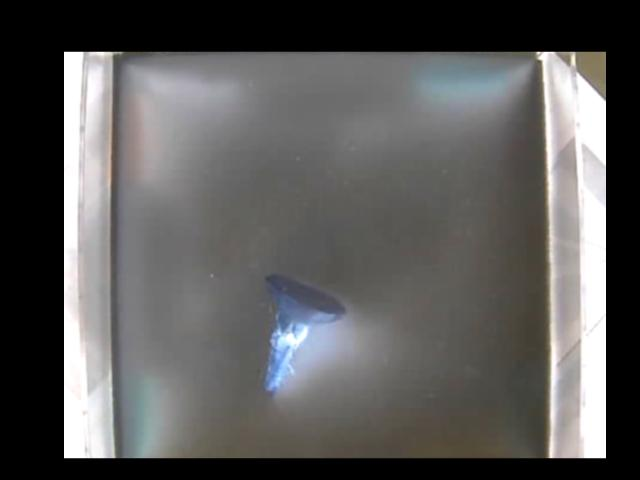Mooli: (259, 274, 344, 393)
